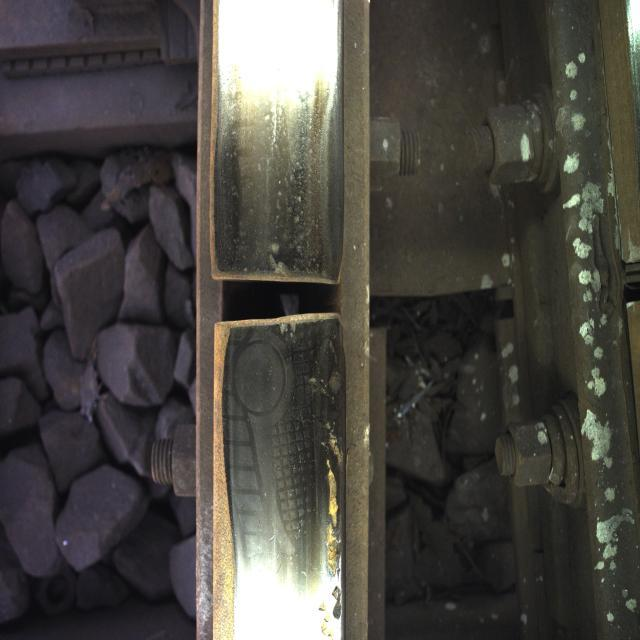spalling: (181, 225, 381, 357)
